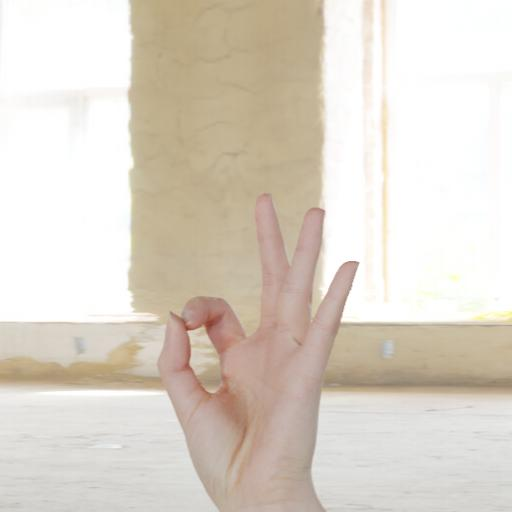F: (145, 183, 361, 512)
